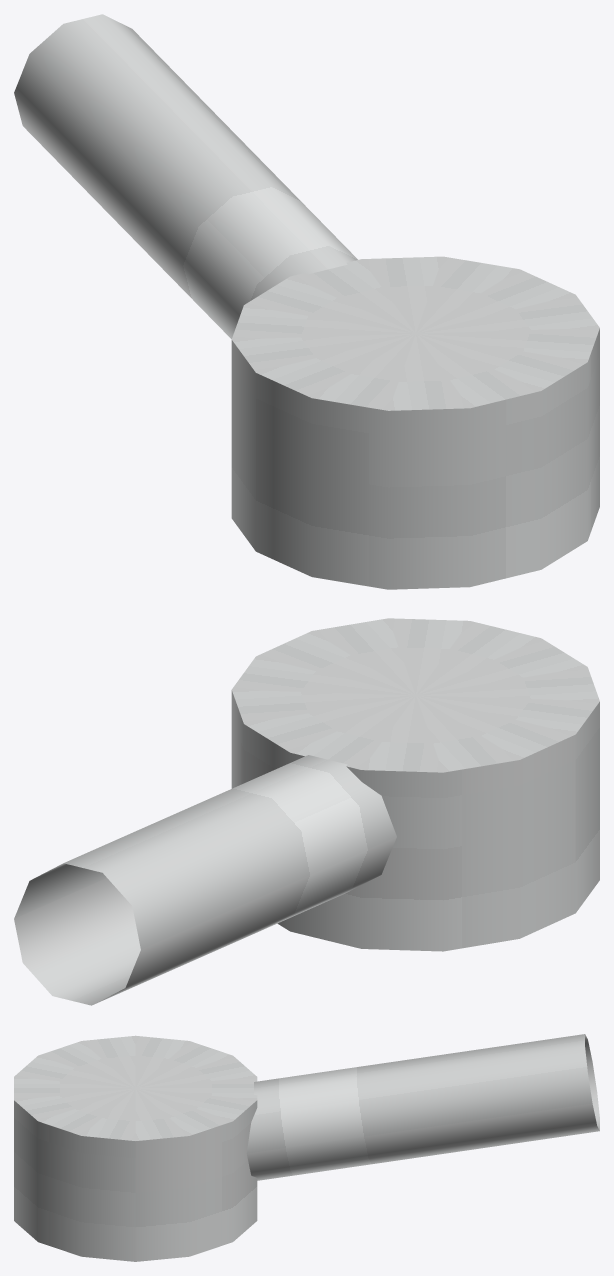
The model's file is trusssignalarm_sloped12_c0.obj.
The picture shows the model from 3 angles, top to bottom: view 1: azimuth 30°, elevation 25°; view 2: azimuth 150°, elevation 25°; view 3: azimuth 270°, elevation 25°; orthographic projection. The views are drawn at different scales.
Visible parts, largest first — view 1: trusssignalarm_sloped12_c0; view 2: trusssignalarm_sloped12_c0; view 3: trusssignalarm_sloped12_c0.
Boxes of the visible parts, x1,y1,x2,y2 form: trusssignalarm_sloped12_c0: (14, 14, 599, 589); trusssignalarm_sloped12_c0: (14, 618, 599, 1005); trusssignalarm_sloped12_c0: (14, 1034, 599, 1261).
Bounding box in the file's own units: 0.8188 × 0.6114 × 1.92.
